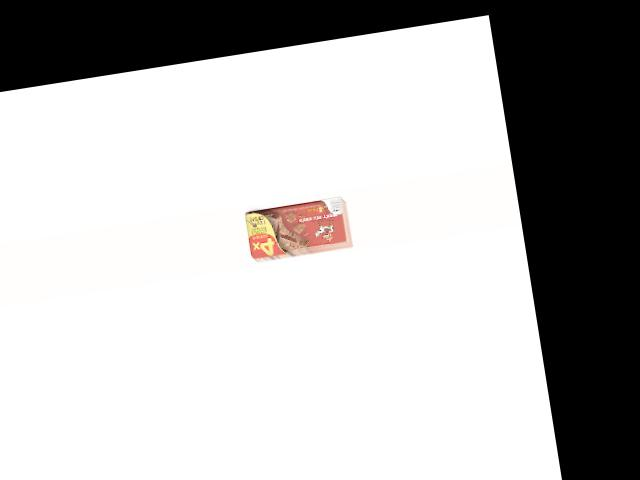chocolate: (242, 193, 351, 263)
